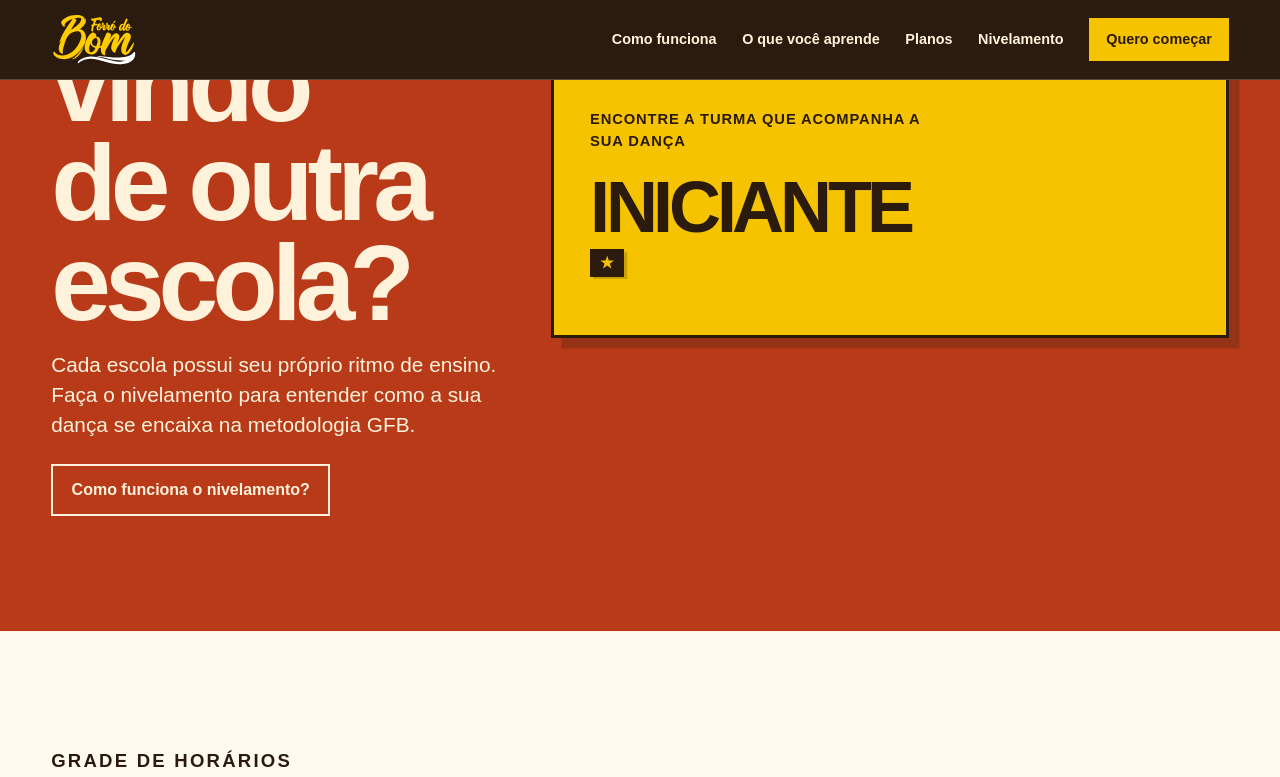
Test: LandingPage › opens the leveling dialog and exposes the free WhatsApp route
(page scrolled)
Click the button "Como funciona o nivelamento?" at [191, 491], box [51,465,330,517]
(page scrolled)
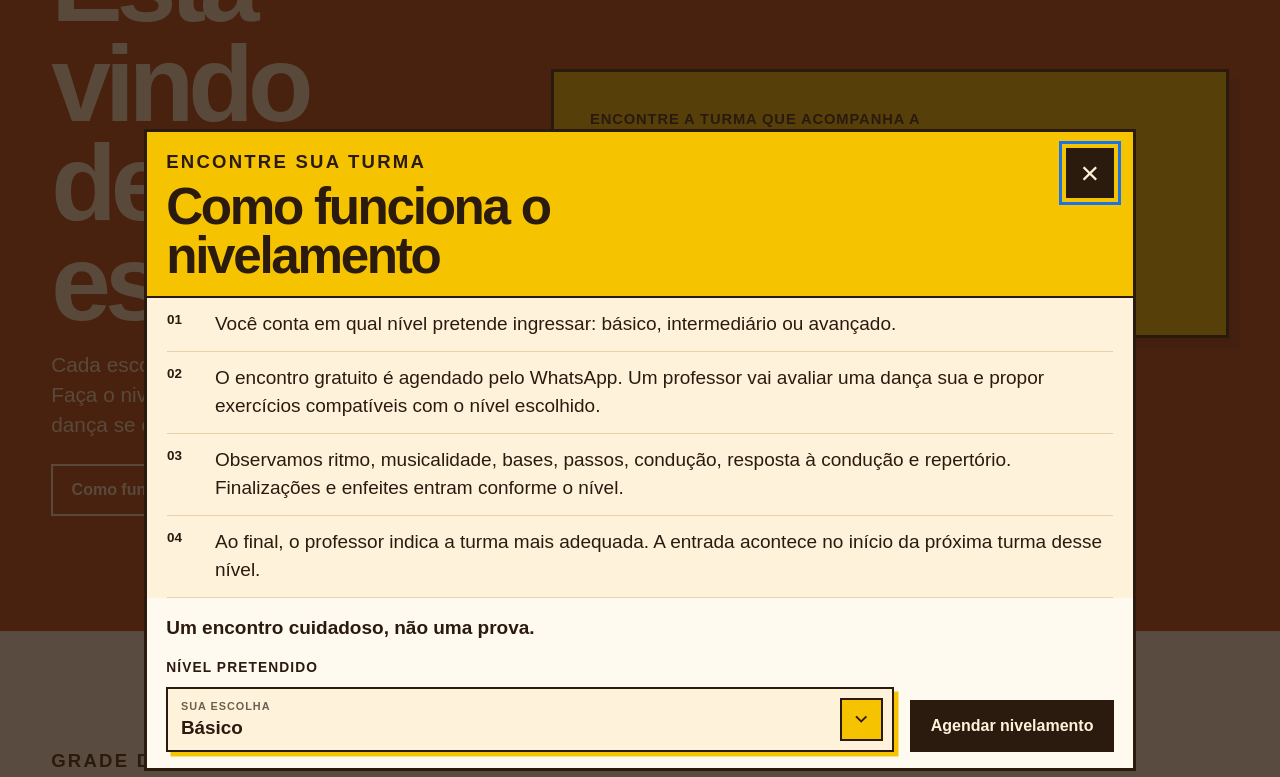
Expected: the dialog "Como funciona o nivelamento" is shown
Expected: the text "Um encontro cuidadoso, não uma prova." is shown, [166,617,535,638]
Expected: the dropdown named "Nível pretendido" is shown, [166,687,894,752]
